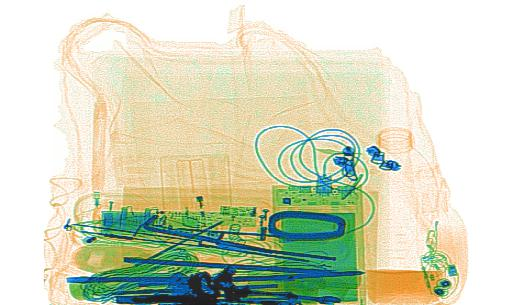lighter: (173, 151, 212, 231)
